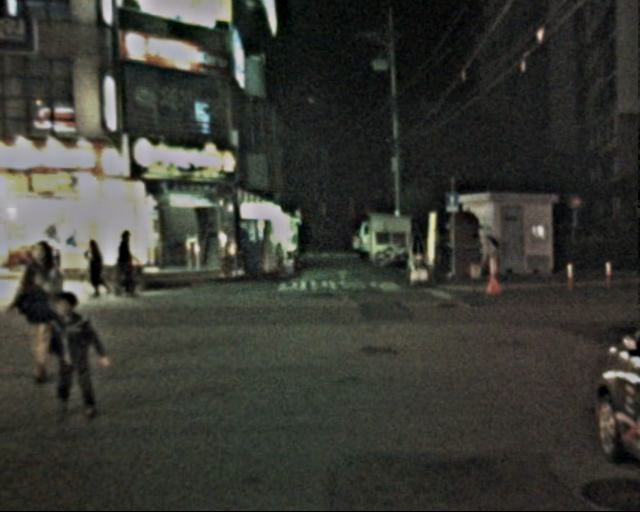person: (13, 236, 82, 382), (45, 283, 108, 425), (114, 227, 144, 297), (83, 239, 112, 297), (470, 230, 495, 290)
